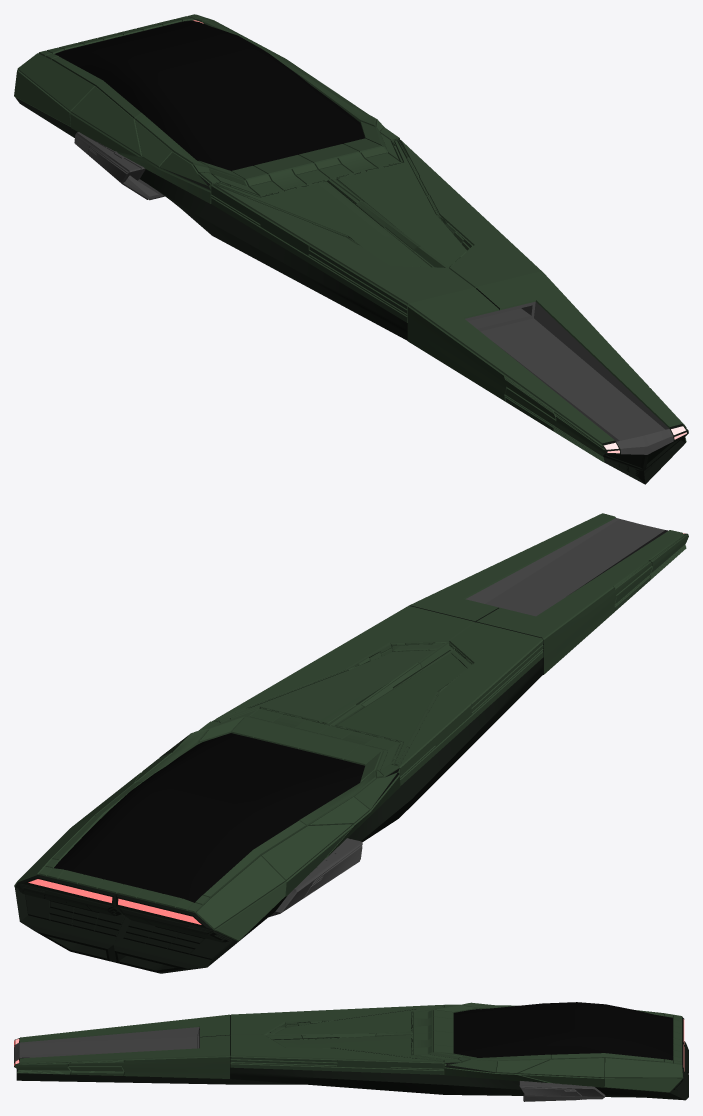
The picture shows the model from 3 angles, top to bottom: view 1: azimuth 30°, elevation 25°; view 2: azimuth 150°, elevation 25°; view 3: azimuth 270°, elevation 25°; orthographic projection. The views are drawn at different scales.
Parts seen in each view (by area): view 1: Cube.003, Cube, windows, Cube.004, Cube.006, Cube.005; view 2: Cube, windows, Cube.003, Cube.004, Cube.006, Cube.005, back light glass; view 3: Cube, Cube.003, windows, Cube.004, Cube.006, Cube.005.
Part boxes in pixels (x1,y1,x2,y2): Cube.003: (211,138,543,322); Cube: (15,20,688,484); windows: (55,21,364,171); Cube.004: (14,14,399,203); Cube.006: (465,301,673,454); Cube.005: (74,132,164,200); Cube: (15,513,688,973); windows: (54,733,364,902); Cube.003: (213,605,543,785); Cube.004: (14,708,400,941); Cube.006: (465,518,667,616); Cube.005: (88,828,362,916); back light glass: (28,879,201,924); Cube: (14,1014,688,1100); Cube.003: (230,1005,444,1074); windows: (453,1002,672,1060); Cube.004: (413,1002,683,1092); Cube.006: (14,1027,199,1063); Cube.005: (519,1081,605,1101).
Bounding box in the file's own units: 1.99 × 0.8287 × 7.74.
